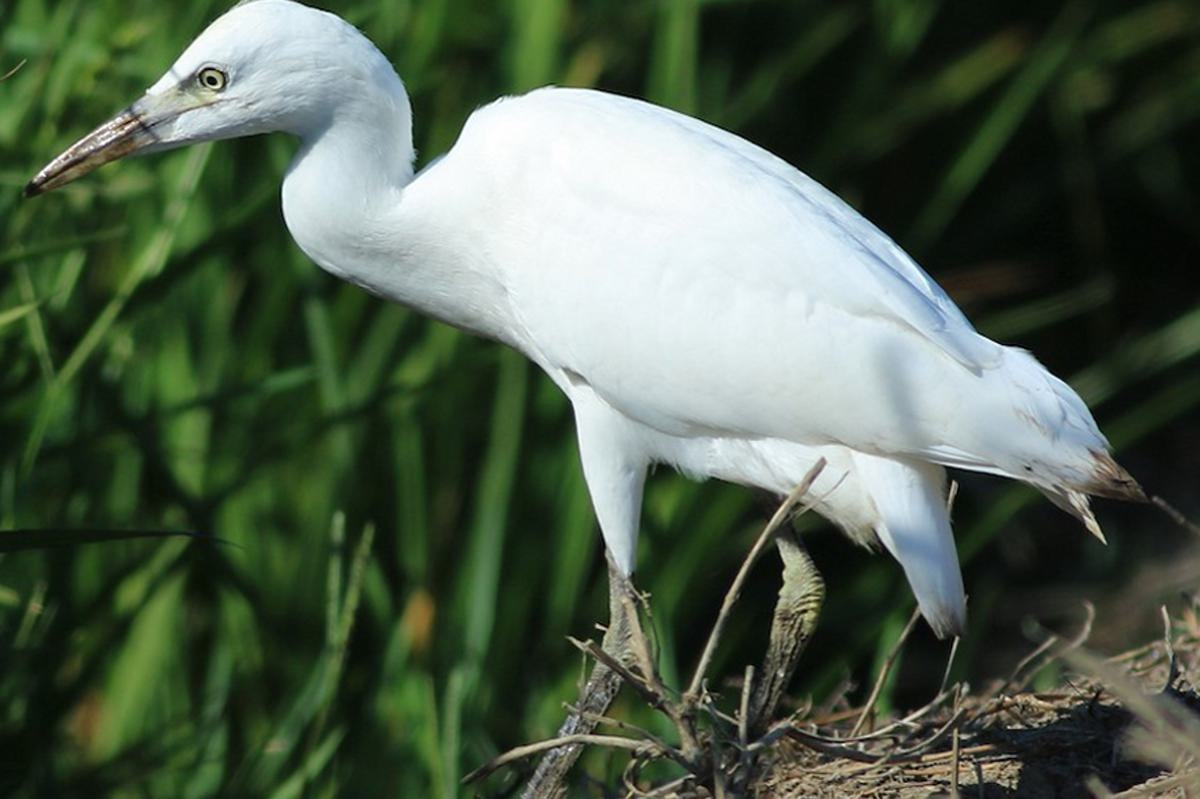egret: (17, 1, 1174, 724)
